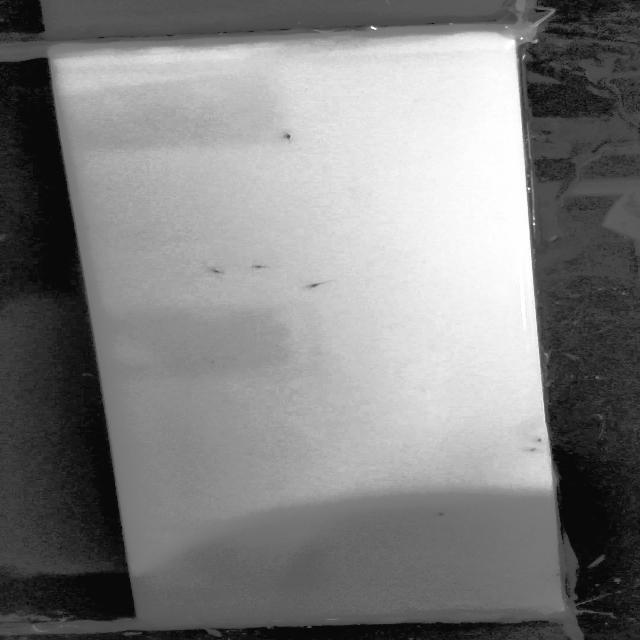shrimp: (259, 122, 308, 149), (420, 501, 466, 525), (301, 272, 338, 296), (243, 257, 280, 279), (200, 263, 237, 278)
